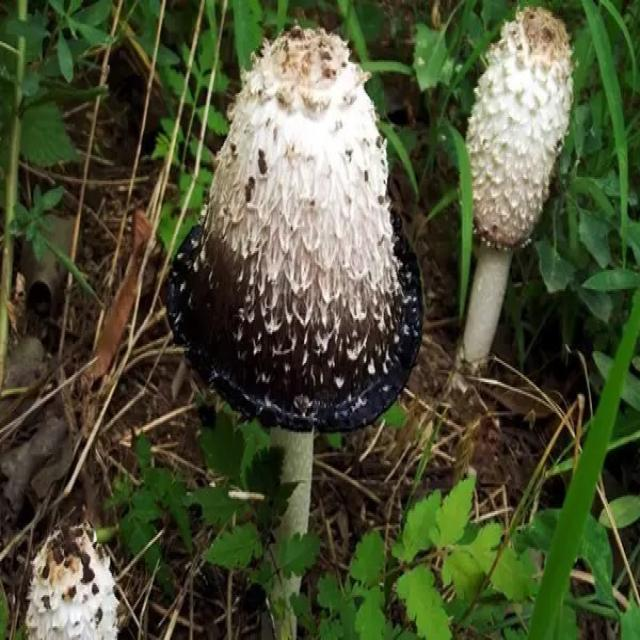Coprinus comatus: (170, 28, 423, 639), (459, 3, 574, 366), (26, 518, 120, 637)
